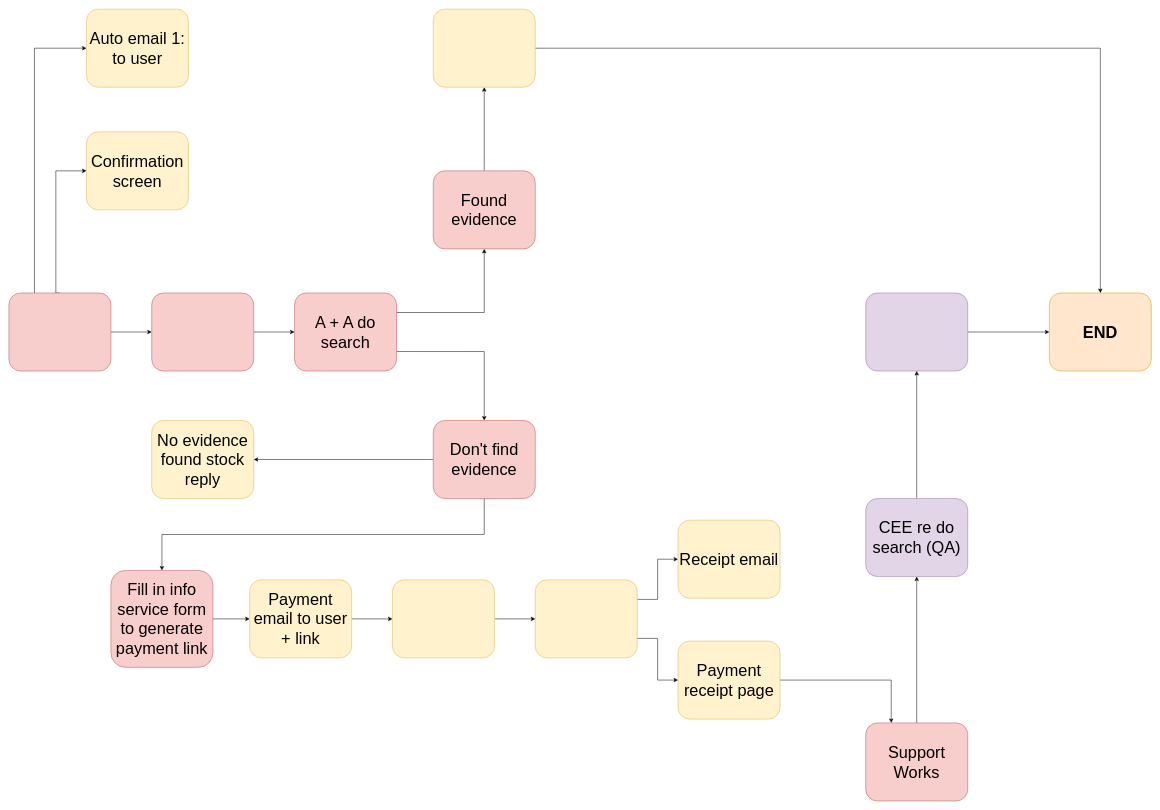
The diagram is 1160 pixels wide and 810 high, and some of its shapes have lost their labels. The centre of each missing label's shape, as x and y in pixels:
Email 2: to A + A team: point 202,331
Evidence stock reply email: point 484,48
LNE FORM: point 59,331
Payment request page: point 443,618
Send letter via post: point 916,331
Worldpay (card details): point 586,618
